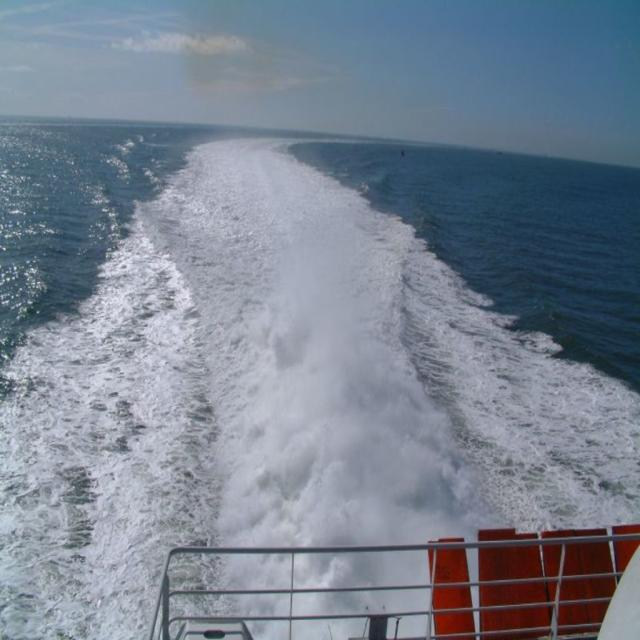Boat: (138, 542, 639, 639)
